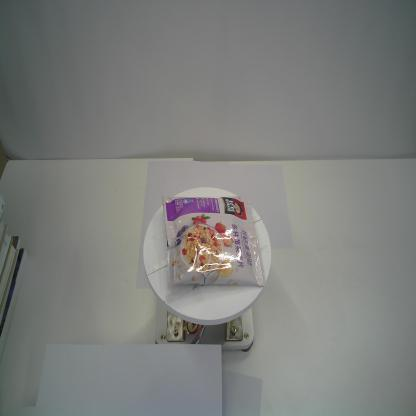Instant Drink: (161, 192, 267, 288)
